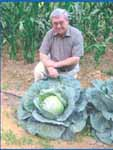cabbage: (13, 73, 89, 141)
